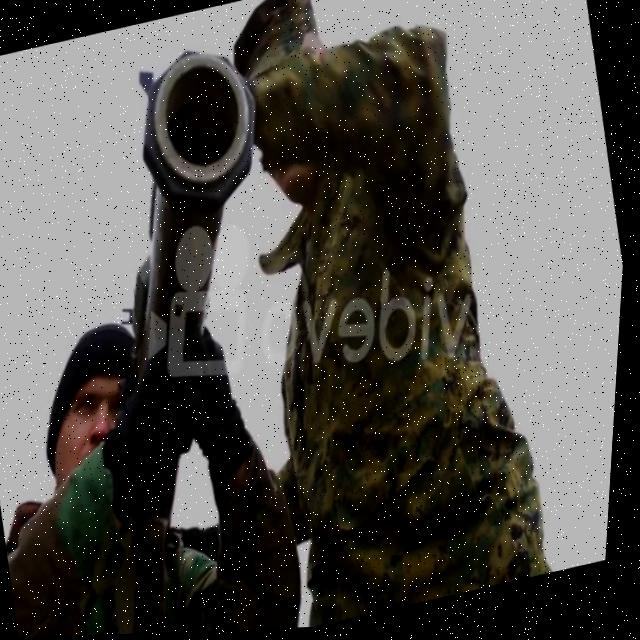rocket: (72, 26, 319, 391)
